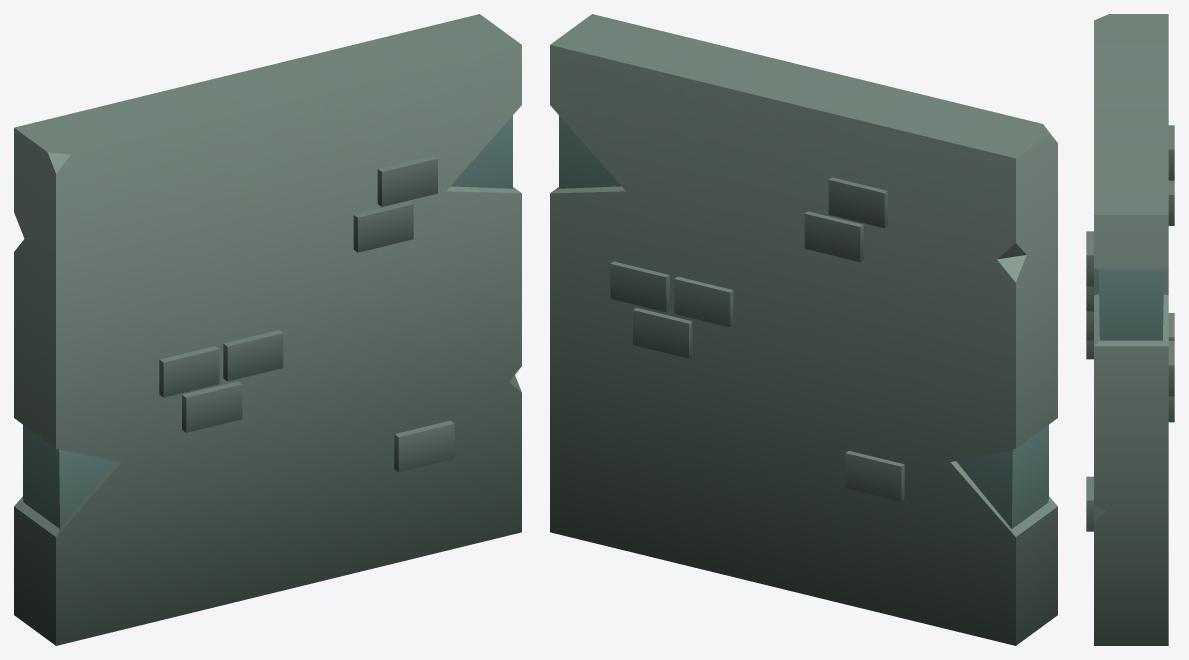
The model's file is wall_002.fbx.
3 renders of one model, left to right at view 1: azimuth 30°, elevation 25°; view 2: azimuth 150°, elevation 25°; view 3: azimuth 270°, elevation 25°, orthographic. The views are drawn at different scales.
Visible parts, largest first — view 1: wall.002; view 2: wall.002; view 3: wall.002.
Part boxes in pixels (x1,y1,x2,y2): wall.002: (14,14,521,645); wall.002: (550,14,1057,645); wall.002: (1086,14,1174,645).
Bounding box in the file's own units: 400 × 400 × 74.06.
